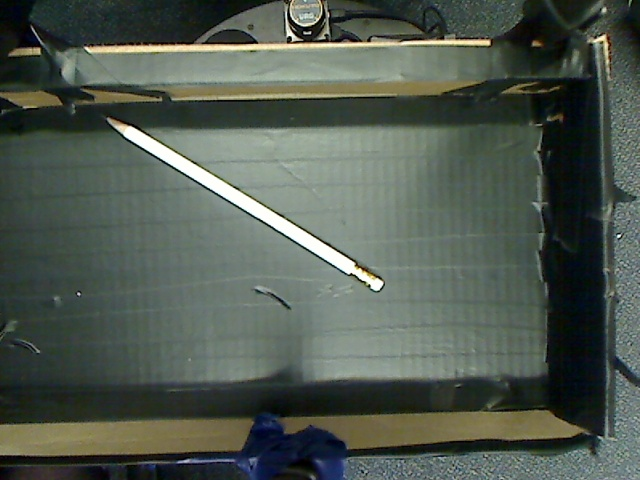pencil: (99, 114, 391, 308)
